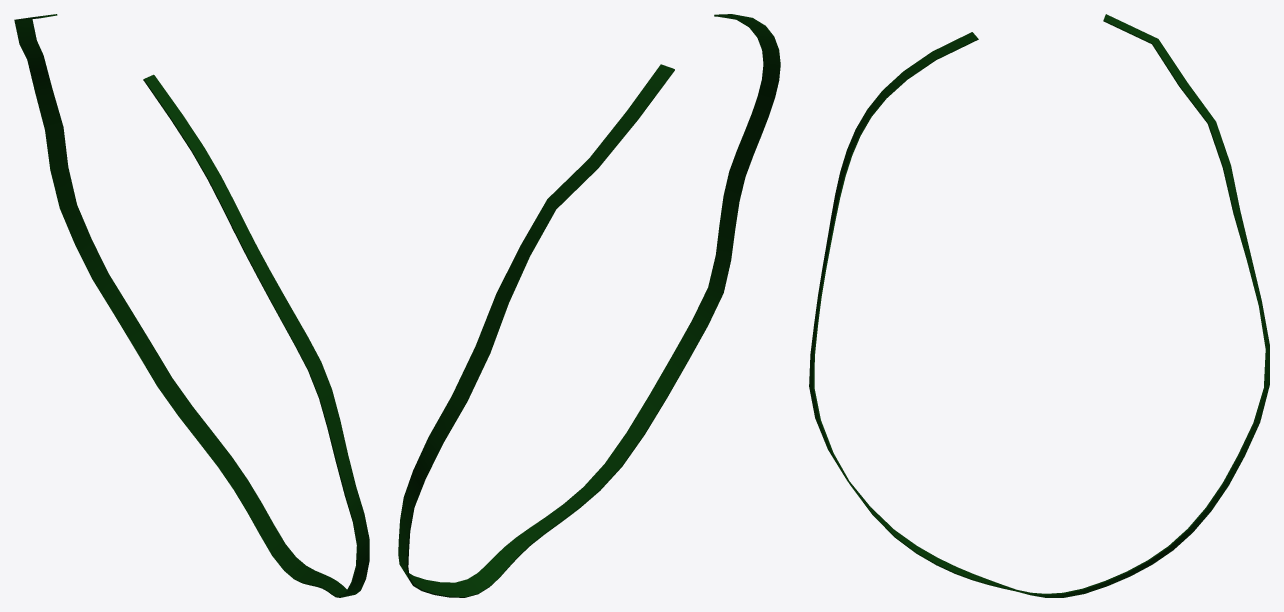
The model's file is day_maskoxy.fbx.
The picture shows the model from 3 angles, left to right: view 1: azimuth 30°, elevation 25°; view 2: azimuth 150°, elevation 25°; view 3: azimuth 270°, elevation 25°; orthographic projection. The views are drawn at different scales.
Parts seen in each view (by area): view 1: day; view 2: day; view 3: day.
Part boxes in pixels (box(x1,y1,x2,y2)): day: box(14, 14, 369, 597); day: box(398, 14, 780, 597); day: box(809, 14, 1269, 597).
Size of the model in its own units: 3.15 by 7.59 by 6.41.
